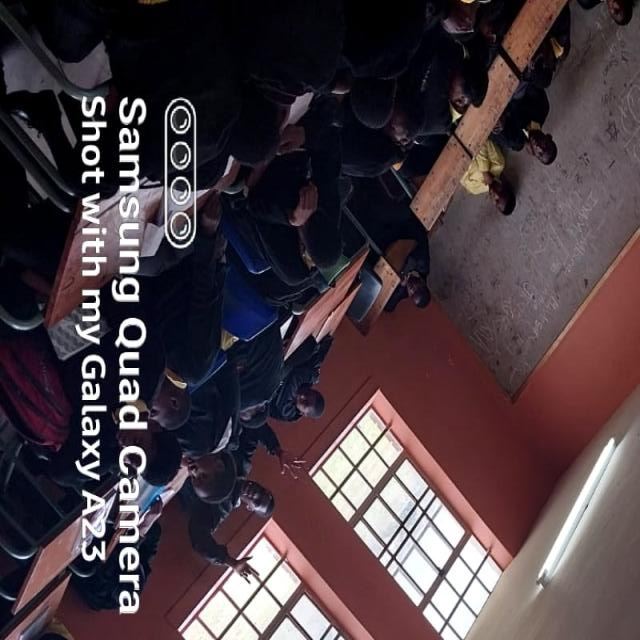fluorescent tube: (516, 416, 638, 629), (638, 482, 640, 640)
